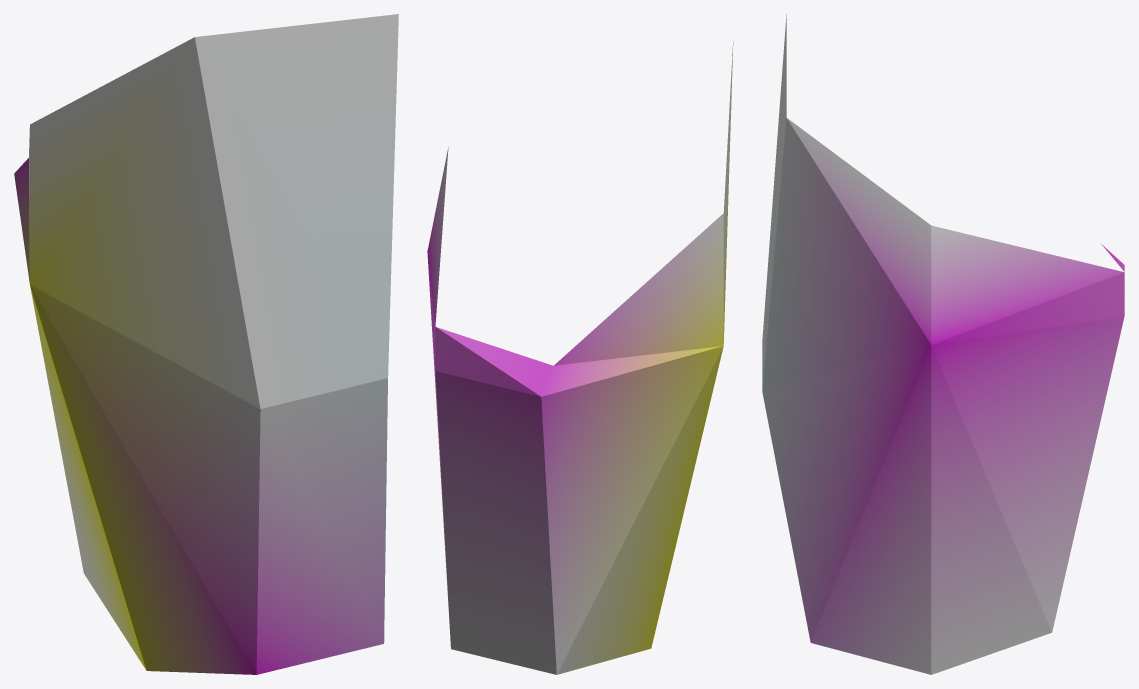
The picture shows the model from 3 angles, left to right: view 1: azimuth 30°, elevation 25°; view 2: azimuth 150°, elevation 25°; view 3: azimuth 270°, elevation 25°; orthographic projection. The views are drawn at different scales.
Parts seen in each view (by area): view 1: model_1153; view 2: model_1153; view 3: model_1153.
Boxes of the visible parts, bbox=[...] form: model_1153: bbox=[14, 14, 398, 674]; model_1153: bbox=[427, 35, 733, 674]; model_1153: bbox=[762, 14, 1124, 674].
Bounding box in the file's own units: 14 × 26 × 15.
